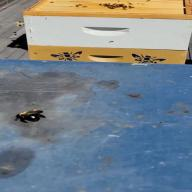Bee: (8, 107, 53, 126), (74, 2, 89, 9)
